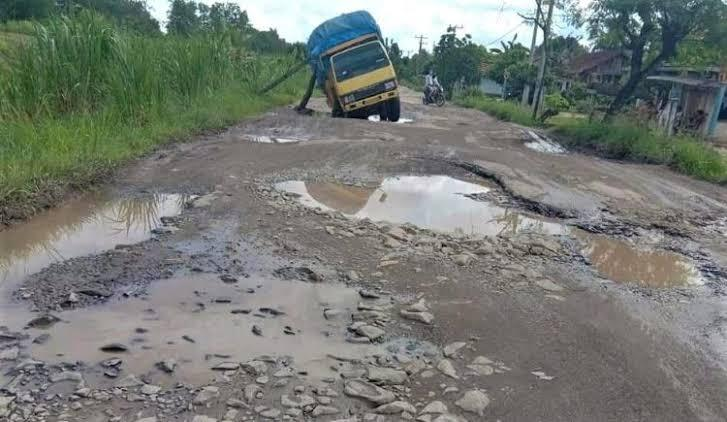Pothole: (15, 152, 420, 417), (274, 133, 727, 302), (467, 117, 583, 164)
